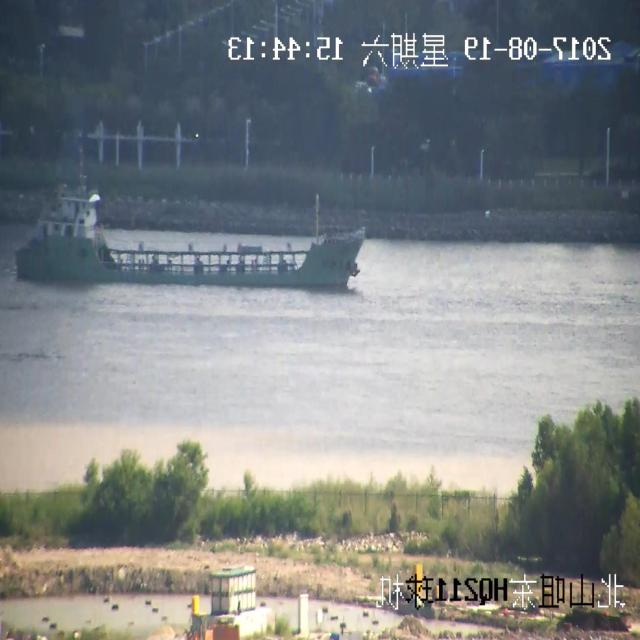houseboat: (2, 189, 388, 319)
